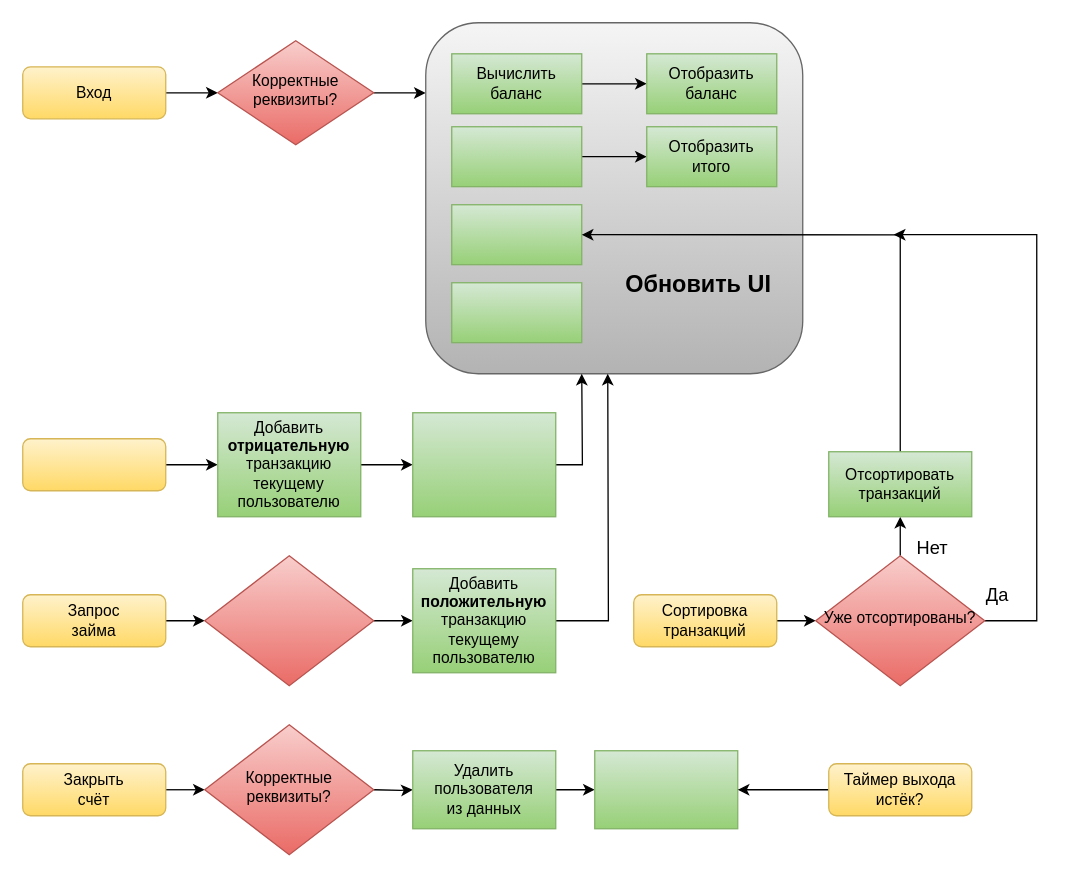
Image size: 1070x877. Some labels were removed from this diagram. Here are the shapes that lost their labels. From the top down, the centre of each, then its label:
the point at 516,156: Вычислить итого
the point at 516,234: Отобразить транзакции
the point at 516,312: Запустить таймер выхода
the point at 93,464: Перевод денег
the point at 483,464: Добавить положительную транзакцию получателю
the point at 288,620: Один из депозитов больше 10% запроса?
the point at 665,789: Выйти из приложения (спрятать UI)
